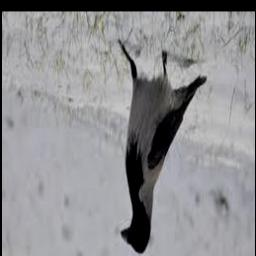Crow: (120, 40, 208, 256)
